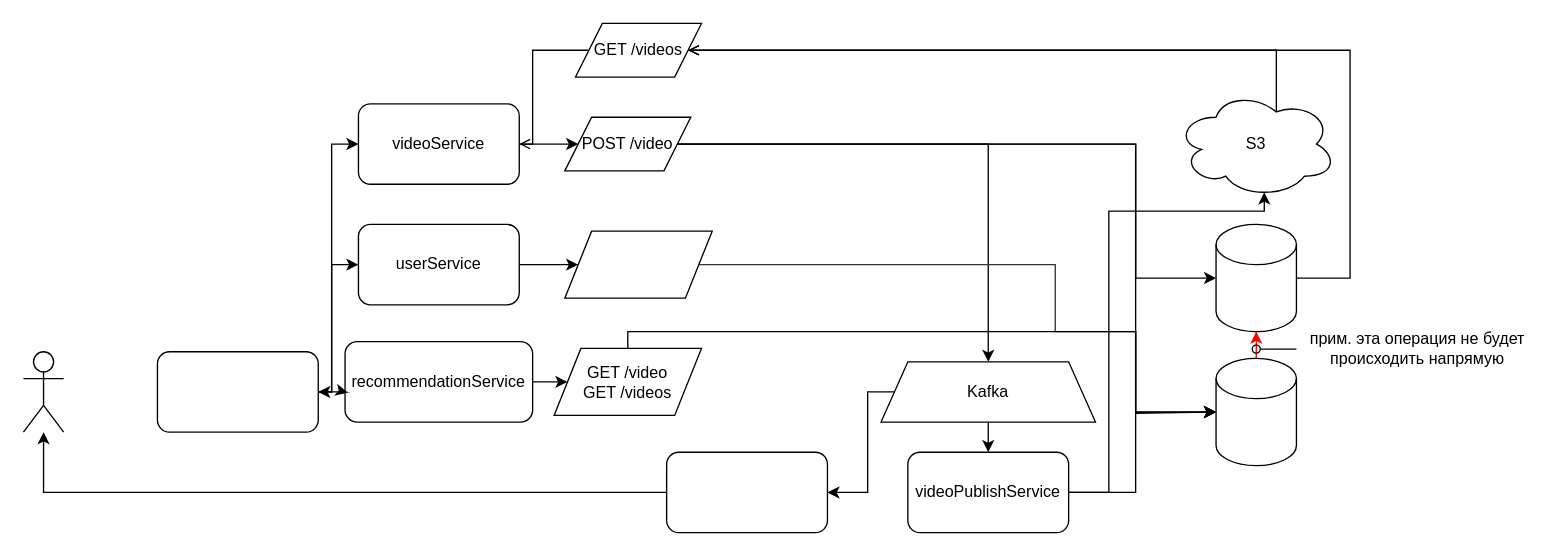
Some shapes in this 1561 by 556 pixel diagram are drawn without their labels. The shapes that lost their labels are listed below. From the top down, each one's centre as x and y in pixels, then its label:
At (x=637, y=264): "POST /login POST /register POST /refresh".
At (x=1255, y=277): "Redis".
At (x=237, y=391): "backend".
At (x=1255, y=411): "DB".
At (x=746, y=492): "notificationService".
